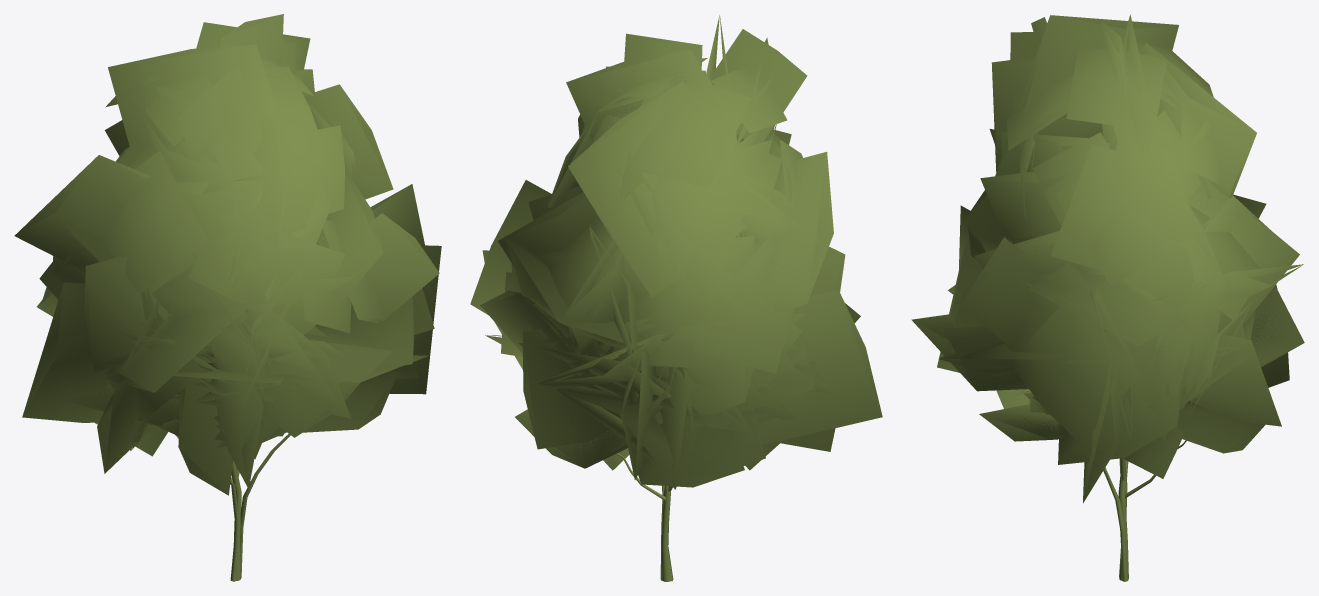
Rendered from cmc_sevenson_full_01.fbx.
The picture shows the model from 3 angles, left to right: view 1: azimuth 30°, elevation 25°; view 2: azimuth 150°, elevation 25°; view 3: azimuth 270°, elevation 25°; orthographic projection. The views are drawn at different scales.
Parts seen in each view (by area): view 1: seven_son_tree_leaves (×2), seven_son_tree_flowers (×2), seven_son_tree_LOD0; view 2: seven_son_tree_leaves (×2), seven_son_tree_flowers (×2), seven_son_tree_LOD0; view 3: seven_son_tree_leaves (×2), seven_son_tree_flowers (×2), seven_son_tree_LOD0.
Boxes of the visible parts, box(x1,y1,x2,y2) form: seven_son_tree_leaves (×2): box(14, 14, 441, 495); seven_son_tree_flowers (×2): box(41, 42, 386, 420); seven_son_tree_LOD0: box(230, 434, 290, 581); seven_son_tree_leaves (×2): box(470, 15, 882, 489); seven_son_tree_flowers (×2): box(508, 58, 802, 377); seven_son_tree_LOD0: box(616, 453, 673, 581); seven_son_tree_leaves (×2): box(911, 14, 1304, 503); seven_son_tree_flowers (×2): box(1003, 42, 1260, 444); seven_son_tree_LOD0: box(1103, 440, 1186, 581).
Size of what is drawn, in the model's own units: 7.89 by 10.15 by 6.51.
